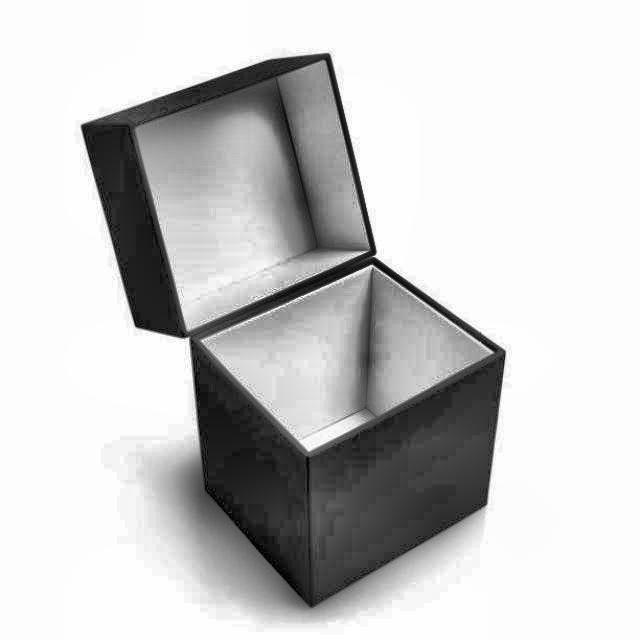cardboard: (80, 53, 506, 609)
